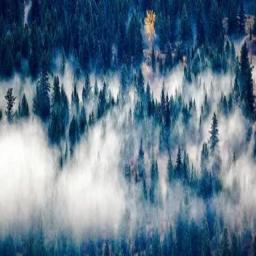Heavy smoke: (0, 60, 255, 245)
Small fire: (133, 3, 172, 53)
